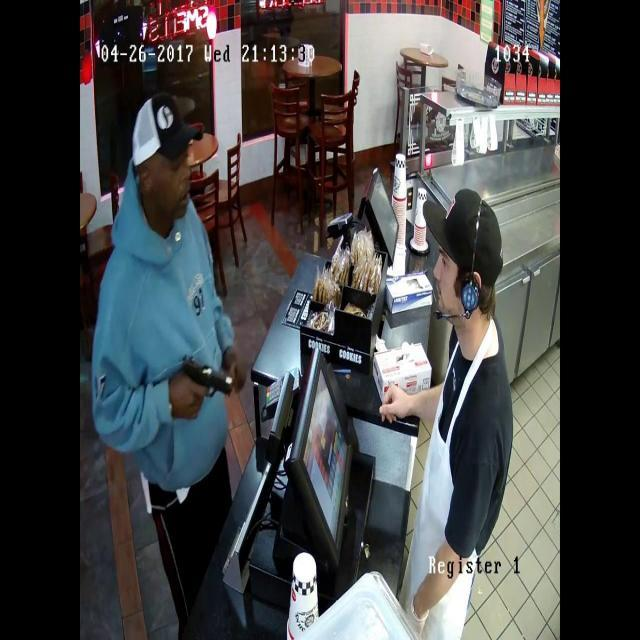weapon: (164, 343, 246, 413)
